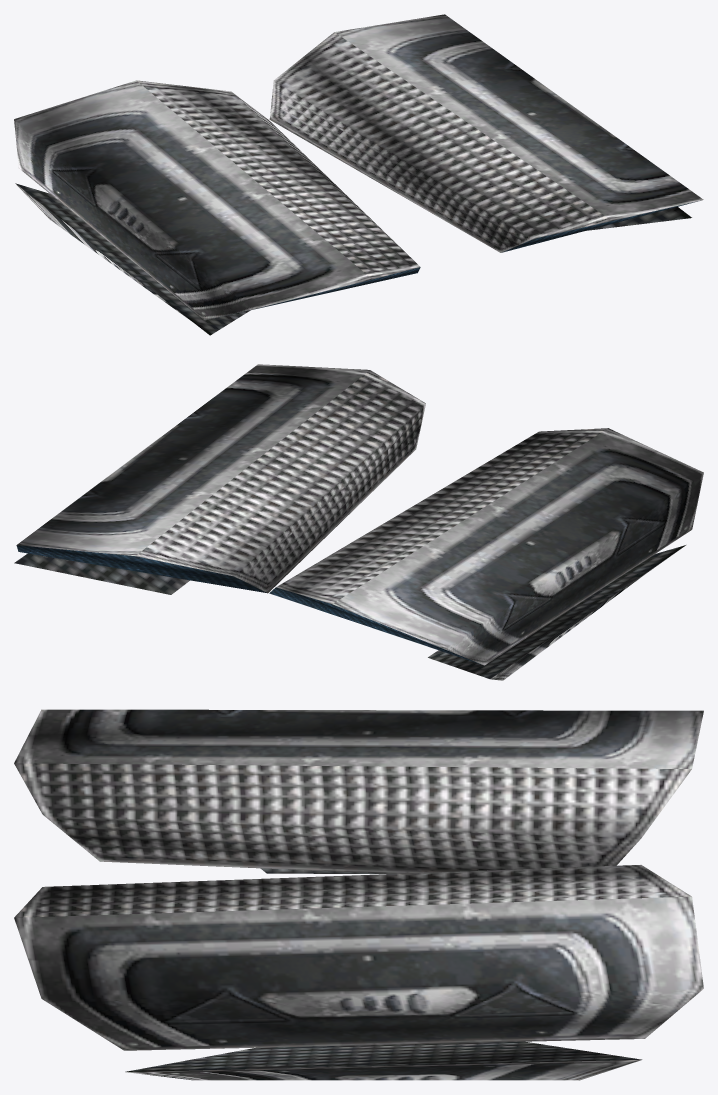
The model's file is LegPads2.glb.
3 views of the same model, one above another, from view 1: azimuth 30°, elevation 25°; view 2: azimuth 150°, elevation 25°; view 3: azimuth 270°, elevation 25° (orthographic). The views are drawn at different scales.
Visible parts, largest first — view 1: LegPads2; view 2: LegPads2; view 3: LegPads2.
Boxes of the visible parts, x1,y1,x2,y2 form: LegPads2: (14, 14, 703, 335); LegPads2: (14, 364, 703, 680); LegPads2: (14, 709, 703, 1080).
Bounding box in the file's own units: 20.85 × 3.92 × 19.33.
1 material, 1 textured.
